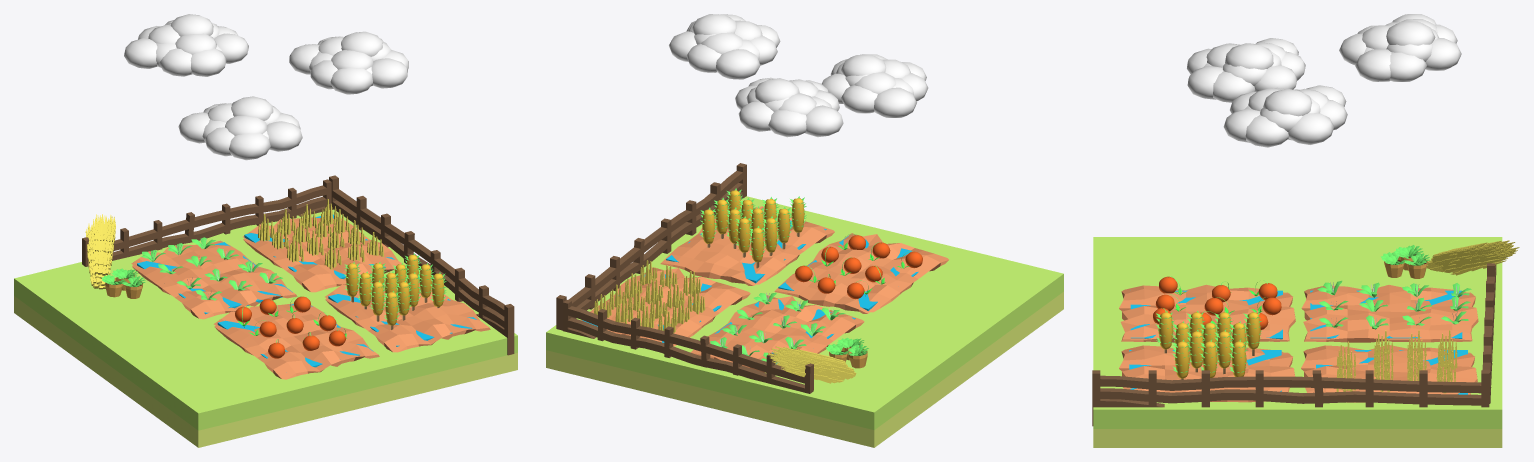
Rendered from farm.glb.
The picture shows the model from 3 angles, left to right: view 1: azimuth 30°, elevation 25°; view 2: azimuth 150°, elevation 25°; view 3: azimuth 270°, elevation 25°; orthographic projection. The views are drawn at different scales.
Visible parts, largest first — view 1: Cube, Cube.000, Plane, Plane.002, Icosphere.016, Icosphere.001, Icosphere.000, Plane.006, Plane.027, Plane.026; view 2: Cube, Cube.000, Plane.002, Icosphere.016, Icosphere.000, Icosphere.001, Plane, Plane.006, Plane.027; view 3: Cube, Cube.000, Plane, Icosphere.000, Icosphere.016, Icosphere.001, Plane.002, Plane.027, Plane.006, Plane.026, Cube.043, Cube.032 (+6 smaller).
Part boxes in pixels (x1=…): Cube: x1=14, y1=209, x2=517, y2=447; Cube.000: x1=82, y1=175, x2=514, y2=355; Plane: x1=131, y1=240, x2=297, y2=319; Plane.002: x1=213, y1=303, x2=379, y2=379; Icosphere.016: x1=124, y1=14, x2=248, y2=76; Icosphere.001: x1=178, y1=96, x2=302, y2=160; Icosphere.000: x1=289, y1=31, x2=408, y2=94; Plane.006: x1=325, y1=276, x2=490, y2=352; Plane.027: x1=243, y1=217, x2=406, y2=292; Plane.026: x1=137, y1=242, x2=292, y2=314; Cube: x1=546, y1=196, x2=1063, y2=447; Cube.000: x1=556, y1=163, x2=813, y2=393; Plane.002: x1=774, y1=233, x2=948, y2=313; Icosphere.016: x1=735, y1=77, x2=843, y2=137; Icosphere.000: x1=669, y1=14, x2=780, y2=79; Icosphere.001: x1=822, y1=54, x2=928, y2=117; Plane: x1=691, y1=295, x2=864, y2=372; Plane.006: x1=660, y1=206, x2=834, y2=285; Plane.027: x1=581, y1=267, x2=750, y2=346; Cube: x1=1093, y1=237, x2=1502, y2=447; Cube.000: x1=1092, y1=243, x2=1496, y2=426; Plane: x1=1301, y1=285, x2=1478, y2=342; Icosphere.000: x1=1223, y1=85, x2=1347, y2=147; Icosphere.016: x1=1339, y1=14, x2=1461, y2=81; Icosphere.001: x1=1187, y1=38, x2=1305, y2=102; Plane.002: x1=1119, y1=284, x2=1295, y2=342; Plane.027: x1=1301, y1=345, x2=1477, y2=402; Plane.006: x1=1119, y1=345, x2=1294, y2=402; Plane.026: x1=1310, y1=290, x2=1462, y2=338; Cube.043: x1=1155, y1=310, x2=1174, y2=353; Cube.032: x1=1243, y1=311, x2=1262, y2=355.
Bounding box in the file's own units: 4.77 × 4.18 × 4.99.
